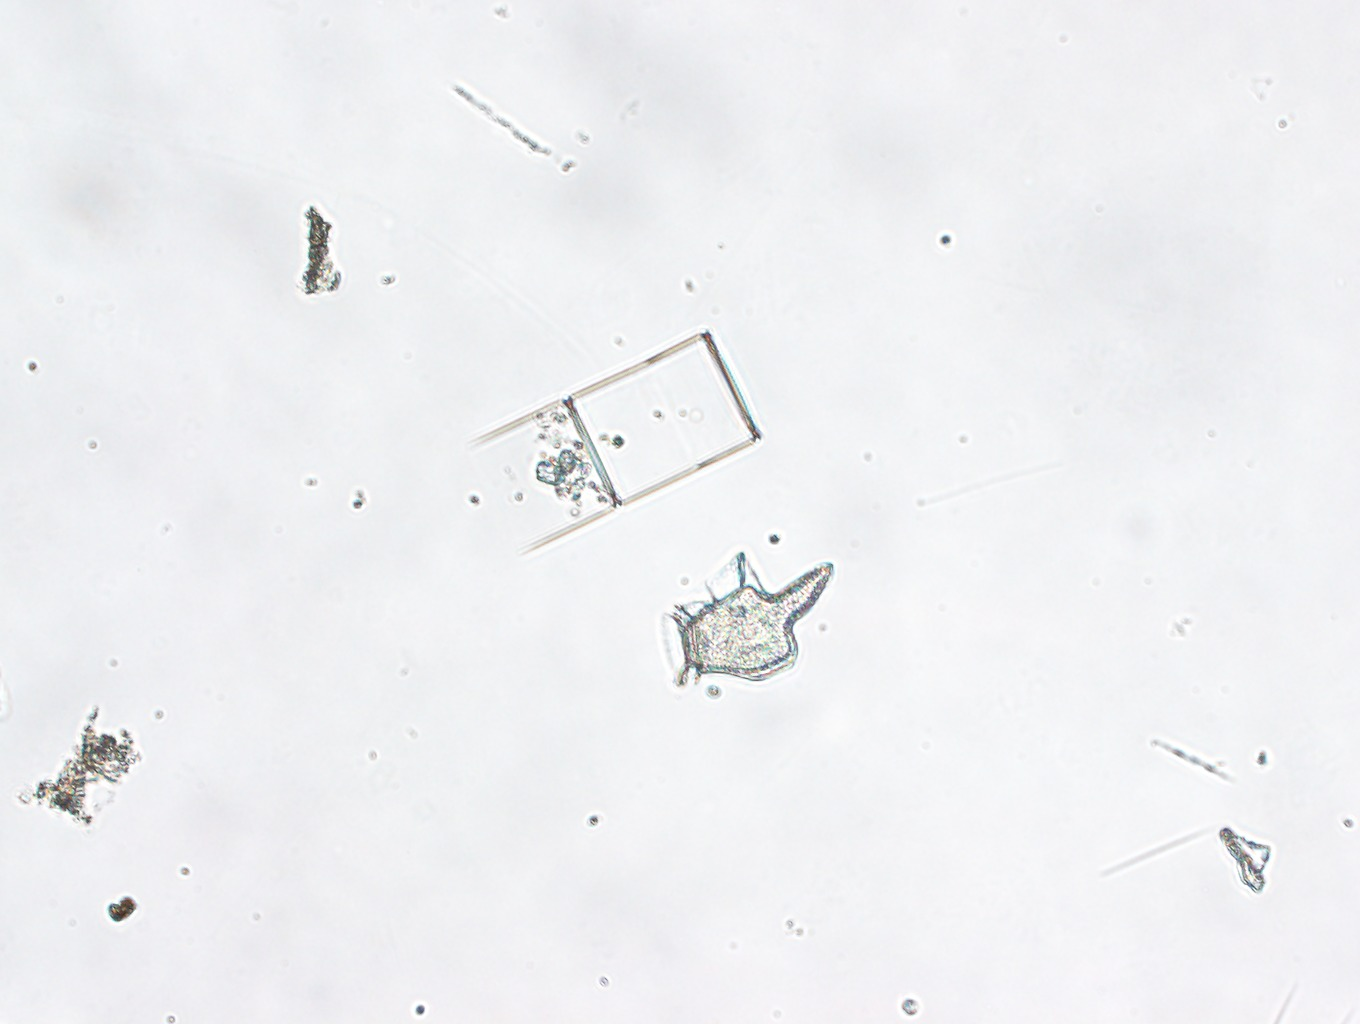dinophysis caudata: (663, 552, 836, 686)
guinardia flaccida: (469, 330, 762, 555)
